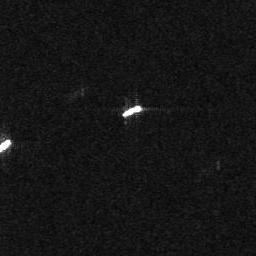ship: (121, 103, 143, 117)
